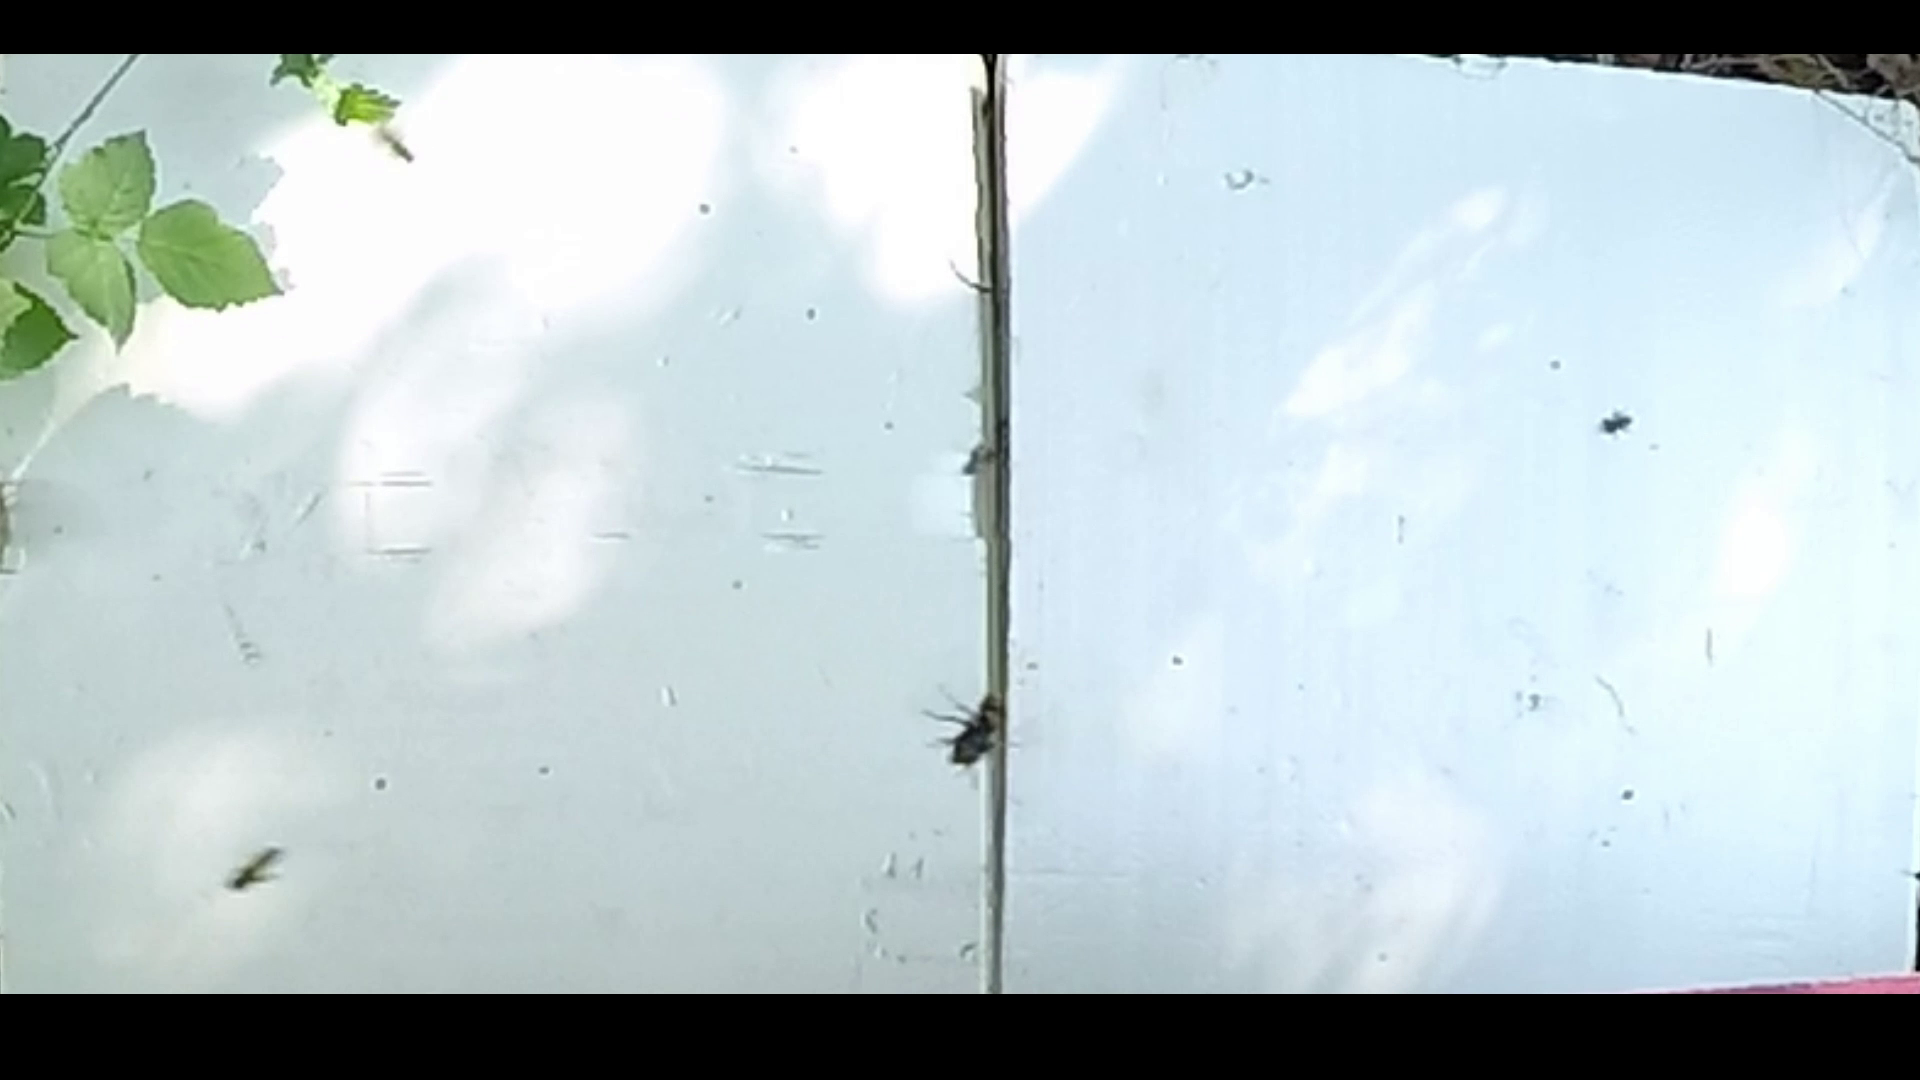Asian_hornets: (903, 667, 1052, 802)
